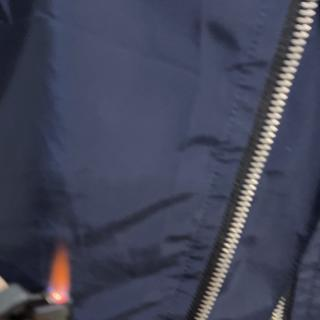fire: (48, 245, 78, 302)
